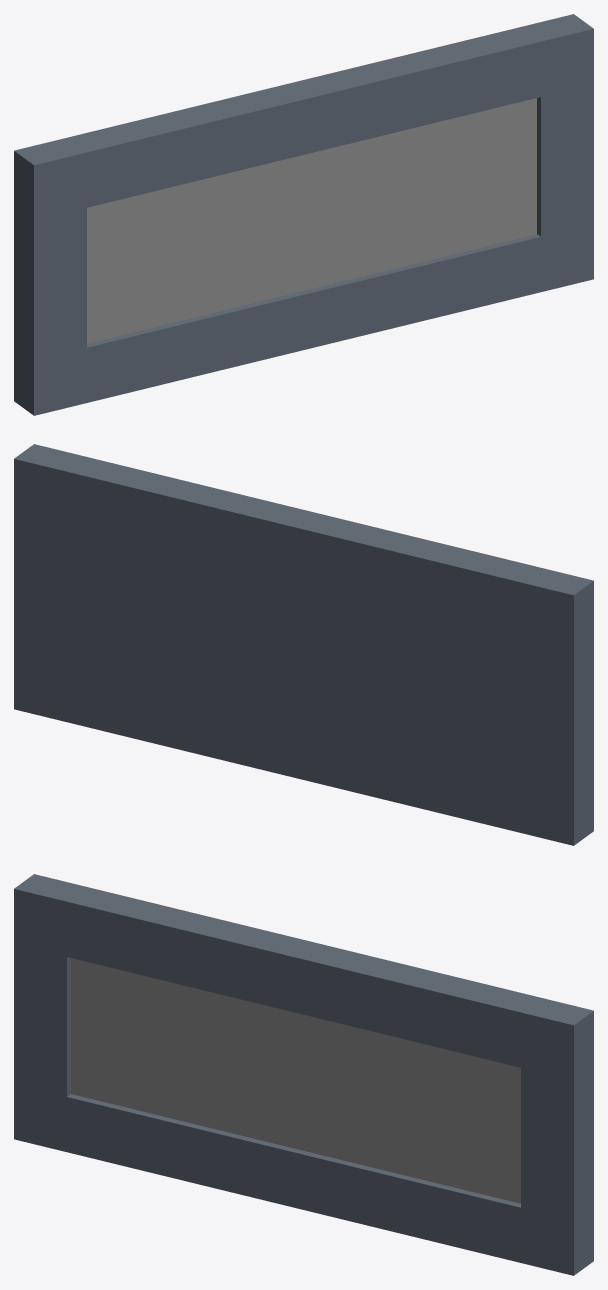
The model's file is Fireplace.FBX.
The picture shows the model from 3 angles, top to bottom: view 1: azimuth 30°, elevation 25°; view 2: azimuth 150°, elevation 25°; view 3: azimuth 330°, elevation 25°; orthographic projection.
Visible parts, largest first — view 1: fireplace; view 2: fireplace; view 3: fireplace.
Part boxes in pixels (x1=…): fireplace: x1=14, y1=14, x2=593, y2=415; fireplace: x1=14, y1=444, x2=593, y2=845; fireplace: x1=14, y1=874, x2=593, y2=1275.
Bounding box in the file's own units: 109 × 46.48 × 6.78.
Materials: 3 (2 with a texture image).
